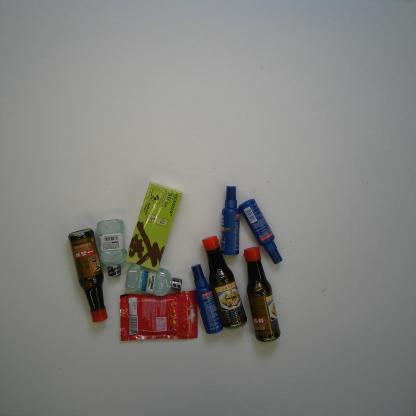Candy: (119, 288, 198, 342)
Instant Drink: (124, 181, 183, 272)
Personal Hygiene: (238, 198, 284, 265), (191, 263, 224, 335), (125, 264, 183, 297), (96, 218, 127, 278), (220, 185, 241, 256)
Seasoner: (201, 235, 248, 330), (67, 228, 108, 323), (242, 246, 281, 342)
